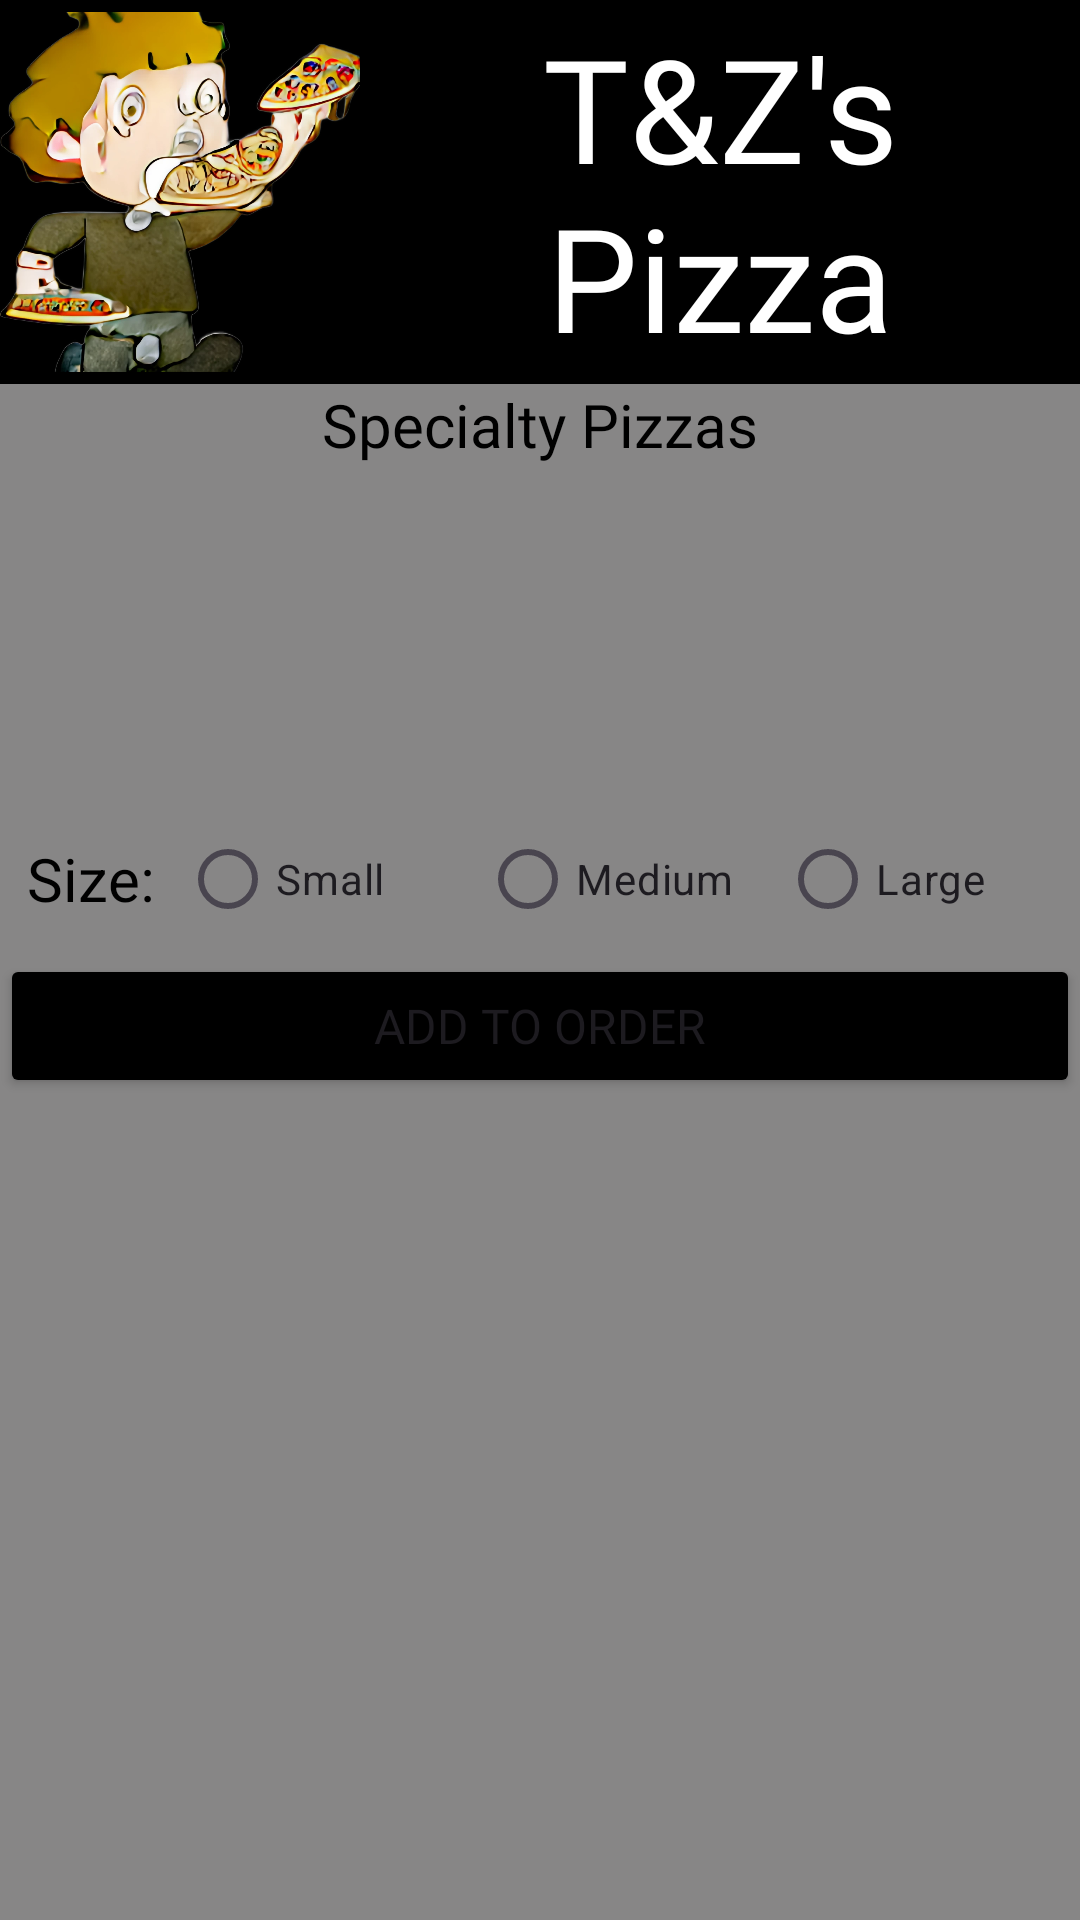

Icon bounding boxes for this 1080*1920 phone screenshot, format rect(x1, y1, x2, y2):
storeicon: rect(0, 12, 360, 372)
